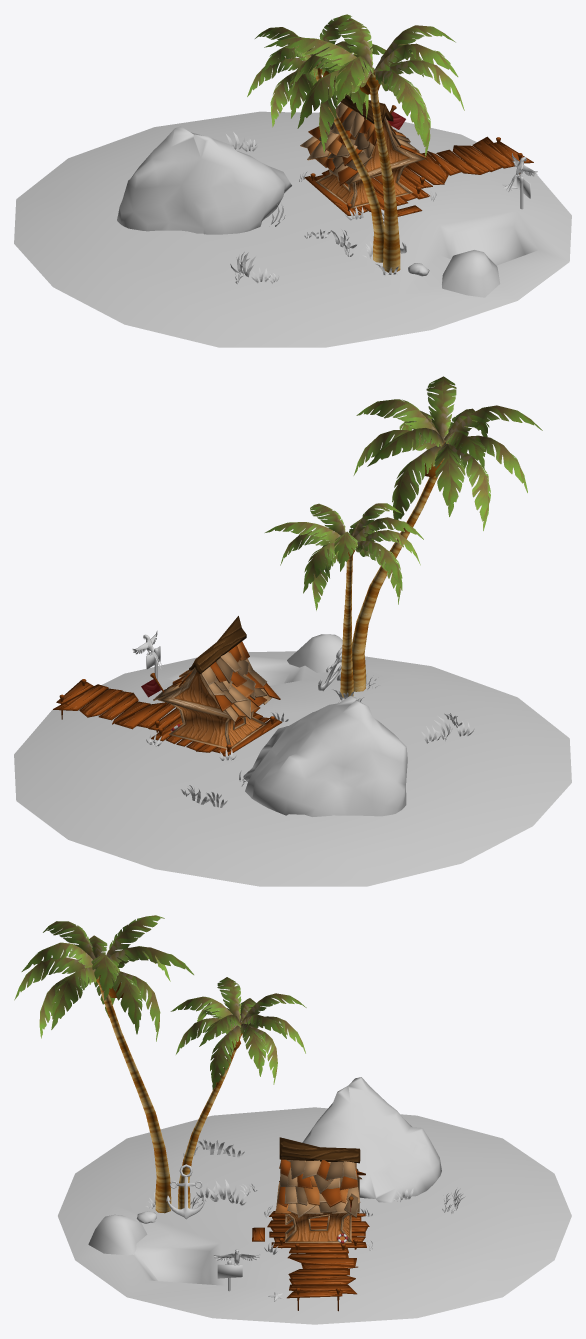
Rendered from PiranoiaIsland.fbx.
The picture shows the model from 3 angles, top to bottom: view 1: azimuth 30°, elevation 25°; view 2: azimuth 150°, elevation 25°; view 3: azimuth 270°, elevation 25°; orthographic projection. The views are drawn at different scales.
Visible parts, largest first — view 1: Ile, Arbre.001, Cabane.031, Cube, Plane.002; view 2: Ile, Arbre.001, Cabane.031, Cube, Plane.002; view 3: Ile, Arbre.001, Cabane.031, Cube, Plane.002.
Part boxes in pixels (x1,y1,x2,y2): Ile: [14, 111, 571, 347]; Arbre.001: [247, 14, 464, 272]; Cabane.031: [300, 94, 533, 216]; Cube: [442, 250, 500, 297]; Plane.002: [226, 132, 436, 283]; Ile: [14, 646, 571, 886]; Arbre.001: [265, 376, 542, 697]; Cabane.031: [53, 616, 282, 756]; Cube: [287, 634, 342, 672]; Plane.002: [146, 674, 474, 807]; Ile: [58, 1077, 571, 1324]; Arbre.001: [14, 915, 306, 1213]; Cabane.031: [252, 1137, 369, 1311]; Cube: [88, 1214, 147, 1255]; Plane.002: [146, 1139, 465, 1254].
Bounding box in the file's own units: 69192 × 42932 × 75062.
